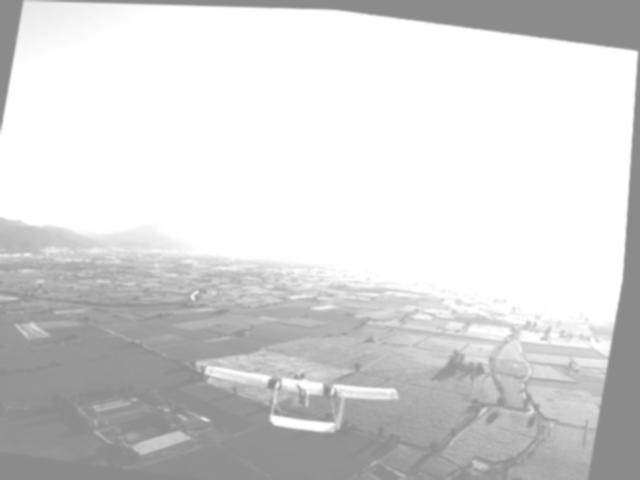hedef: (192, 345, 417, 448)
